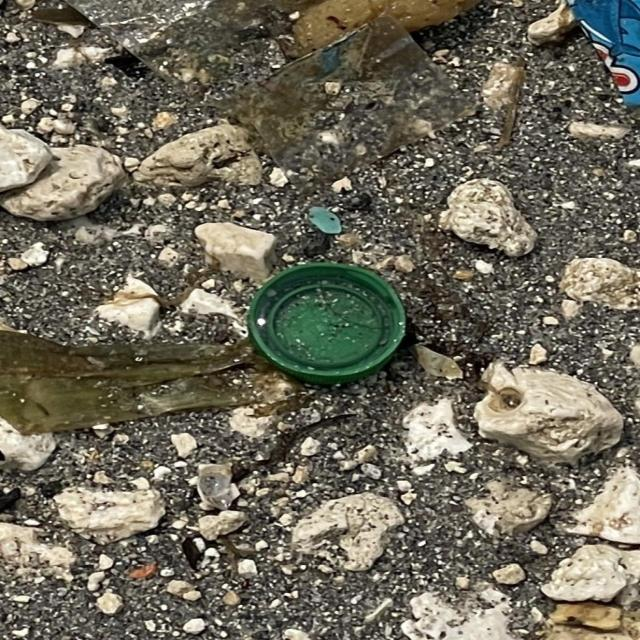plastic_waste: (246, 262, 408, 388)
